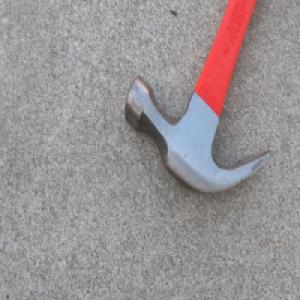Hammer: (122, 0, 274, 205)
